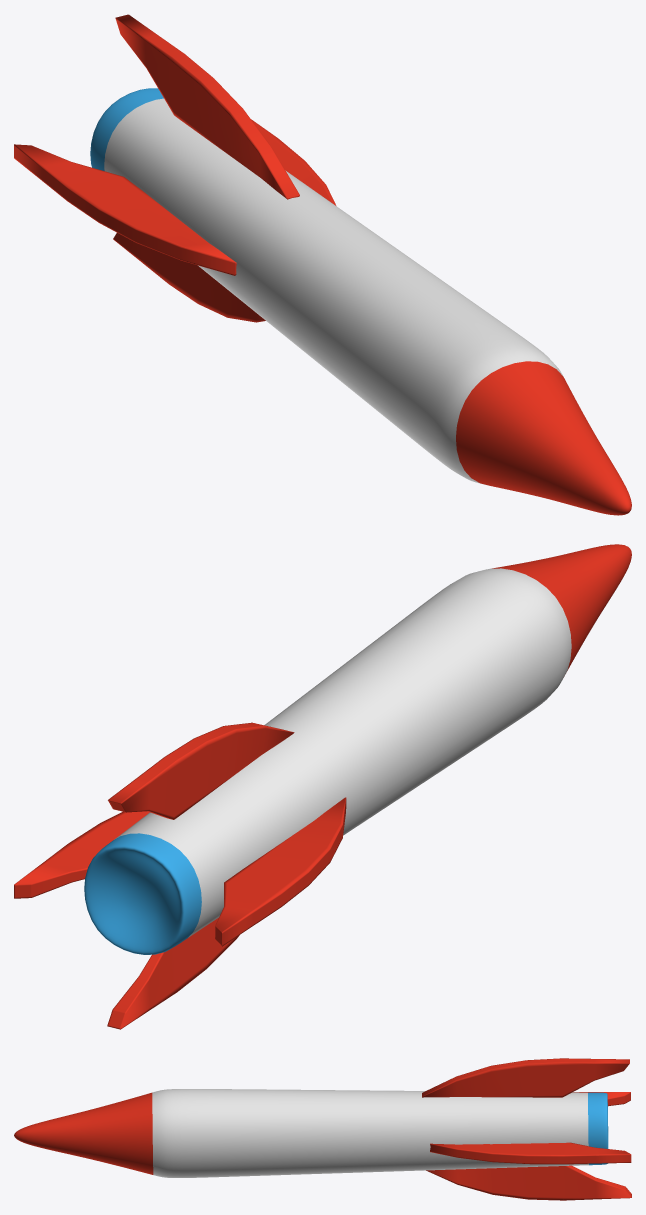
Rendered from cohetemalo.fbx.
3 views of the same model, one above another, from view 1: azimuth 30°, elevation 25°; view 2: azimuth 150°, elevation 25°; view 3: azimuth 270°, elevation 25° (orthographic). The views are drawn at different scales.
Visible parts, largest first — view 1: Body, Fing.002, Fing.003, Fing, Fing.001; view 2: Body, Fing.002, Fing.003, Fing, Fing.001; view 3: Body, Fing.002, Fing, Fing.001, Fing.003.
Boxes of the visible parts, box(x1,y1,x2,y2) form: Body: box(90, 88, 631, 515); Fing.002: box(115, 14, 299, 199); Fing.003: box(14, 144, 236, 275); Fing: box(113, 233, 265, 322); Fing.001: box(251, 119, 336, 205); Body: box(84, 544, 631, 954); Fing.002: box(108, 722, 294, 819); Fing.003: box(215, 797, 346, 946); Fing: box(107, 917, 239, 1029); Fing.001: box(14, 811, 149, 898); Body: box(14, 1089, 608, 1177); Fing.002: box(422, 1058, 629, 1097); Fing: box(426, 1165, 631, 1200); Fing.001: box(430, 1142, 631, 1164); Fing.003: box(573, 1092, 630, 1106).
Size of the model in its own units: 77.36 by 79.93 by 323.
